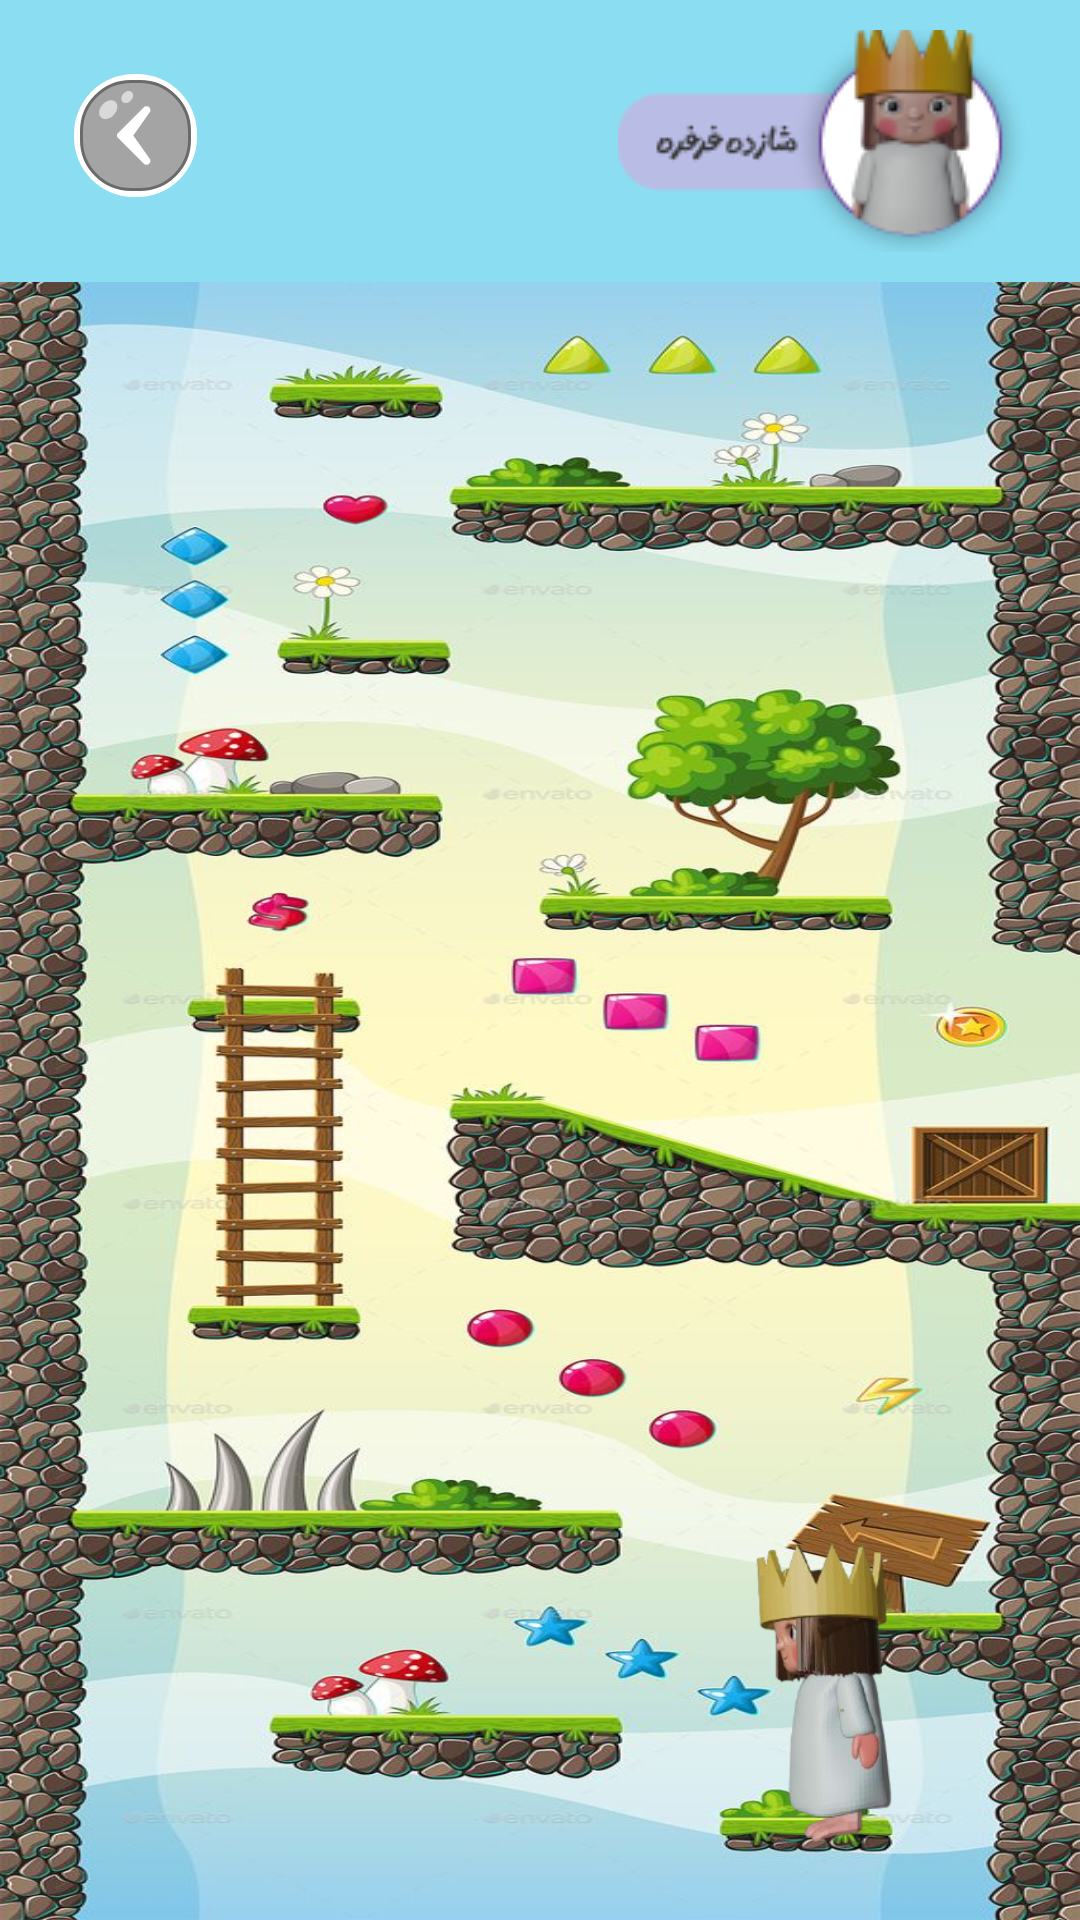

Locate icon controls on the screen. Image size 1080px×1920px, boxes as [left=x1, top=y1, right=x2, bottom=y2].
backbutton: [left=74, top=74, right=197, bottom=197]
